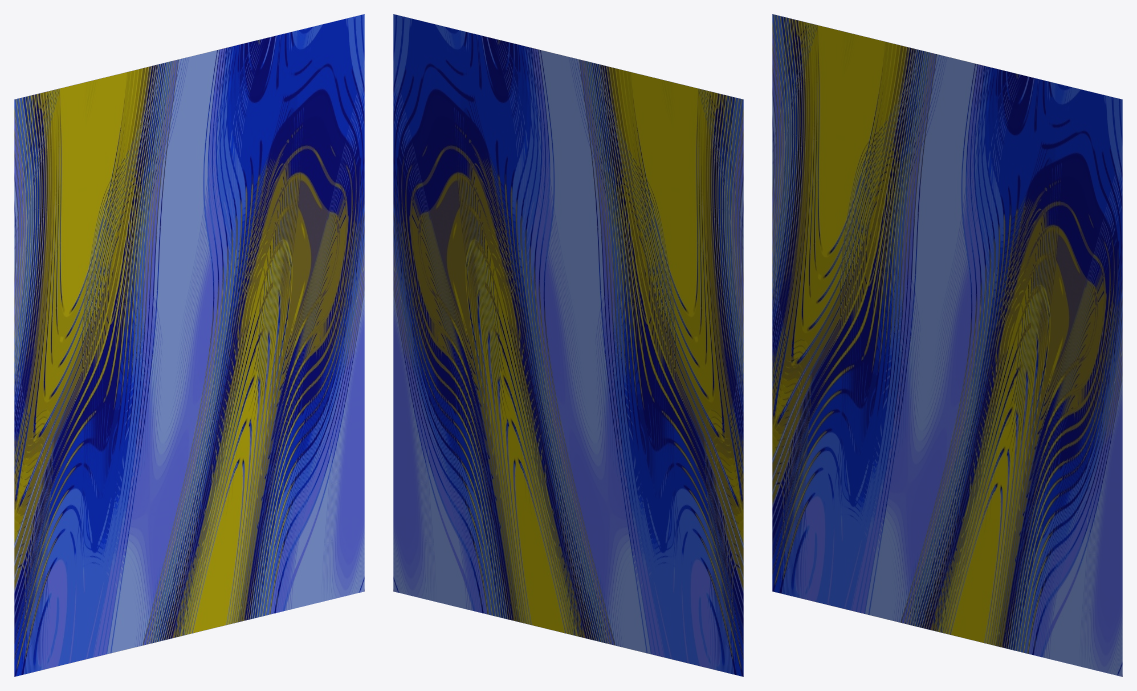
The model's file is poster 1.fbx.
The picture shows the model from 3 angles, left to right: view 1: azimuth 30°, elevation 25°; view 2: azimuth 150°, elevation 25°; view 3: azimuth 330°, elevation 25°; orthographic projection.
Visible parts, largest first — view 1: pPlane1; view 2: pPlane1; view 3: pPlane1.
Boxes of the visible parts, left/top/right/bottom form: pPlane1: left=14, top=14, right=364, bottom=676; pPlane1: left=393, top=14, right=743, bottom=676; pPlane1: left=772, top=14, right=1122, bottom=676.
Bounding box in the file's own units: 4.14 × 6.52 × 0.
Materials: 1 (1 with a texture image).
